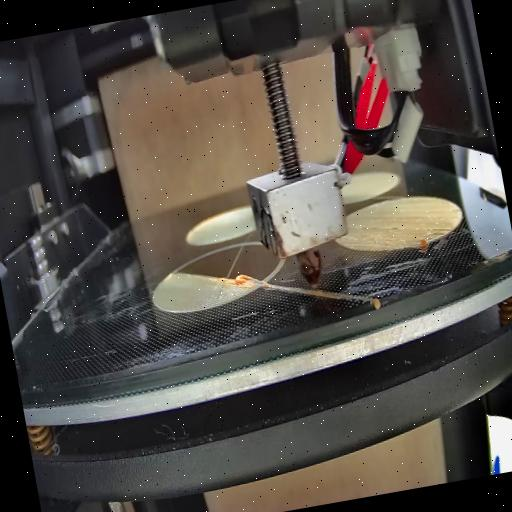under_extrusion: (362, 219, 400, 236), (424, 223, 452, 243), (447, 206, 464, 216)
